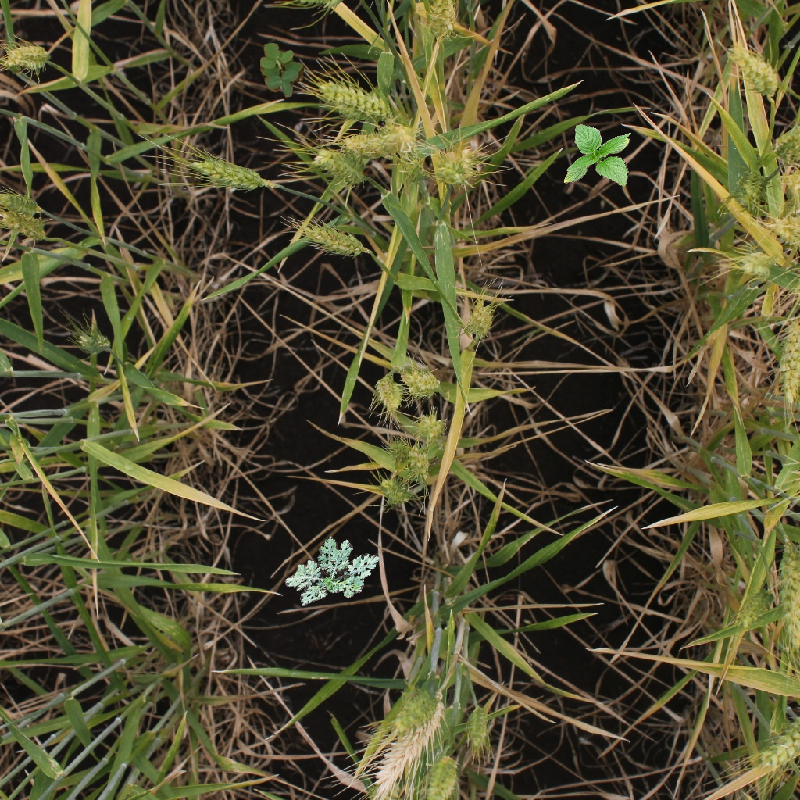spikelet: (369, 707, 449, 798), (313, 75, 399, 121), (390, 672, 445, 735), (725, 40, 783, 97), (187, 153, 269, 192), (775, 537, 800, 649), (755, 711, 800, 771), (301, 220, 367, 259), (775, 314, 799, 410), (311, 144, 367, 185), (729, 583, 773, 632), (419, 751, 462, 800), (433, 142, 479, 187), (338, 551, 381, 598), (730, 164, 767, 213), (395, 439, 435, 483), (1, 39, 52, 72), (736, 246, 780, 282), (1, 208, 48, 241), (464, 702, 494, 752), (423, 1, 461, 40), (316, 535, 352, 575), (401, 363, 442, 398), (462, 300, 496, 342), (380, 120, 419, 156), (767, 210, 800, 251), (771, 120, 799, 166), (73, 324, 112, 357), (342, 130, 389, 157), (378, 474, 416, 507), (372, 372, 404, 411), (412, 411, 446, 446), (284, 558, 320, 590), (1, 188, 42, 216)
weed: (542, 103, 653, 213), (279, 520, 389, 627), (260, 43, 304, 98)
